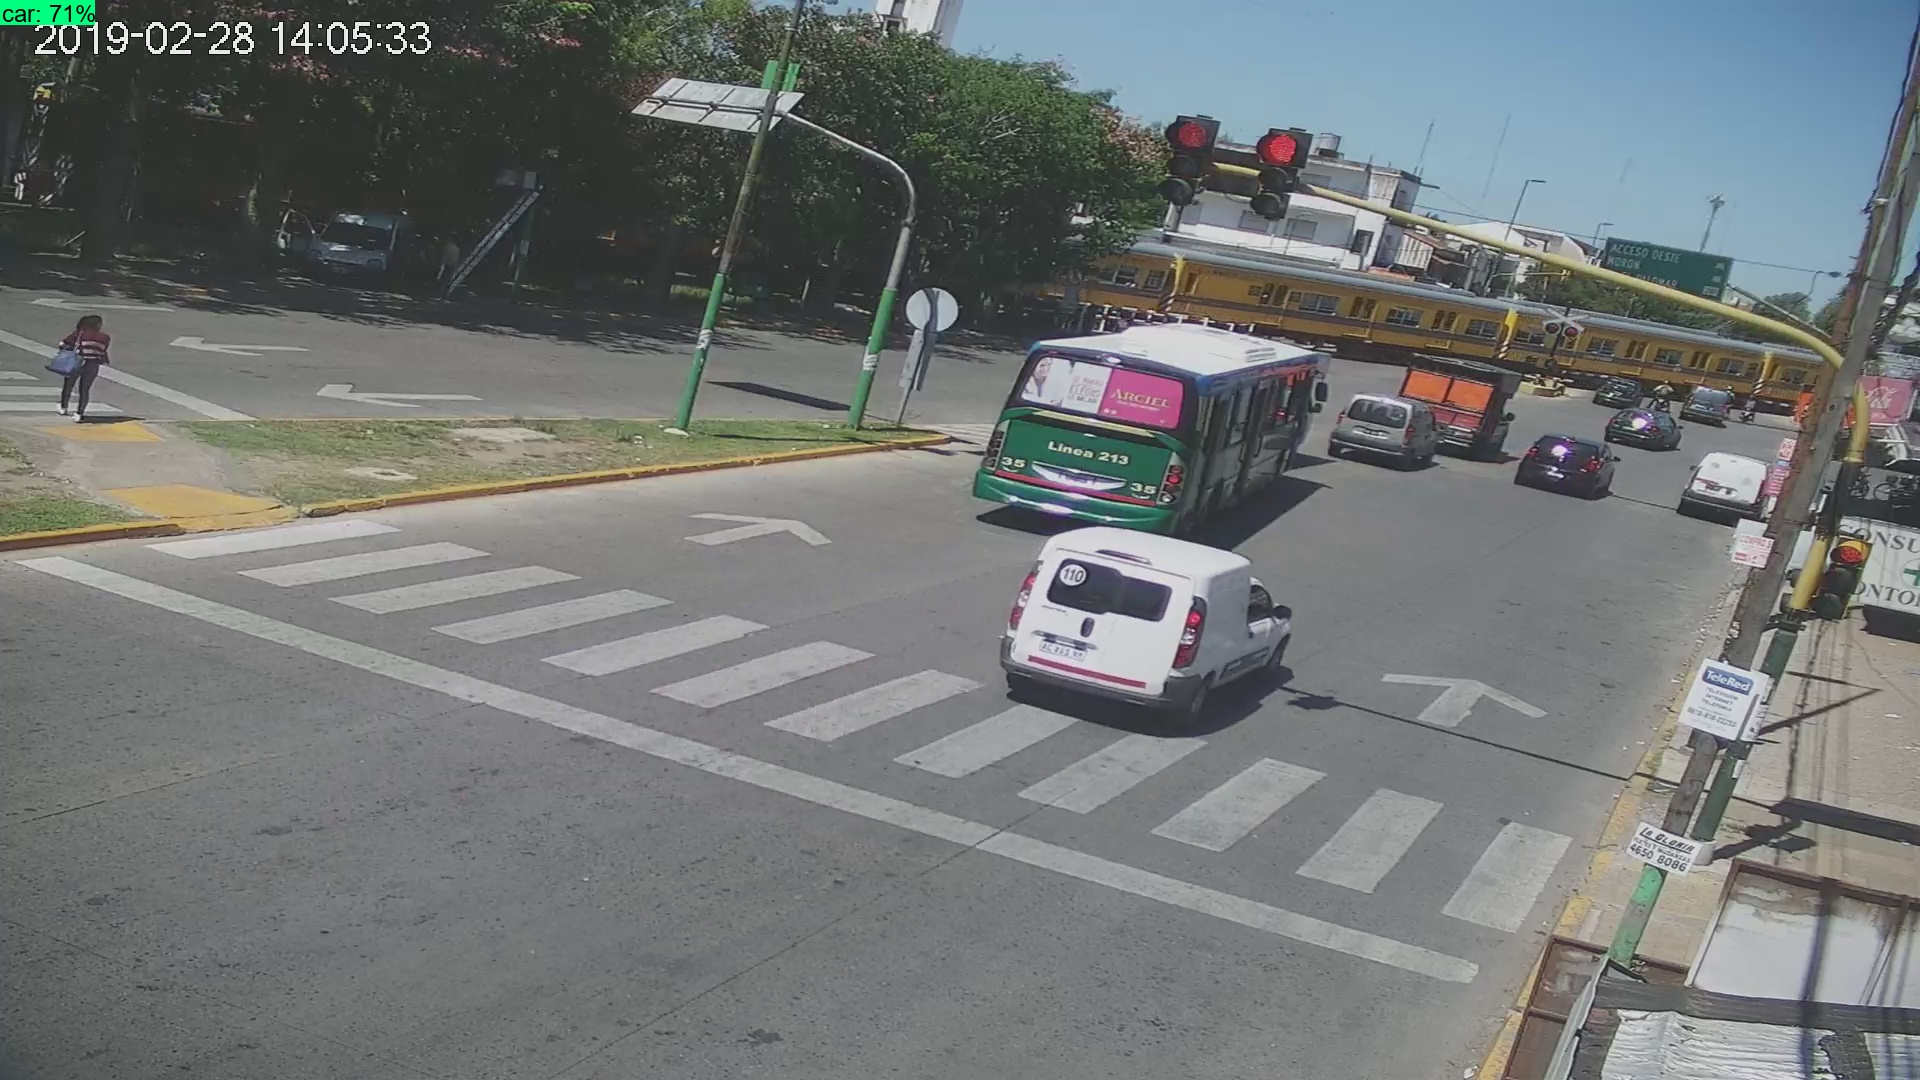bus: (978, 314, 1327, 530)
car: (992, 521, 1298, 720), (1520, 422, 1623, 514), (1338, 388, 1440, 473), (1675, 448, 1766, 525)
